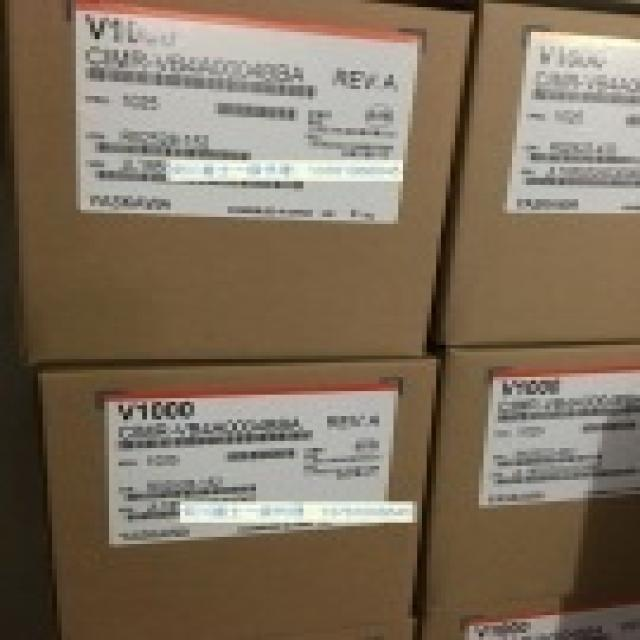box: (2, 1, 473, 365), (42, 360, 435, 636), (430, 4, 635, 350), (418, 345, 635, 619), (412, 595, 635, 636)
